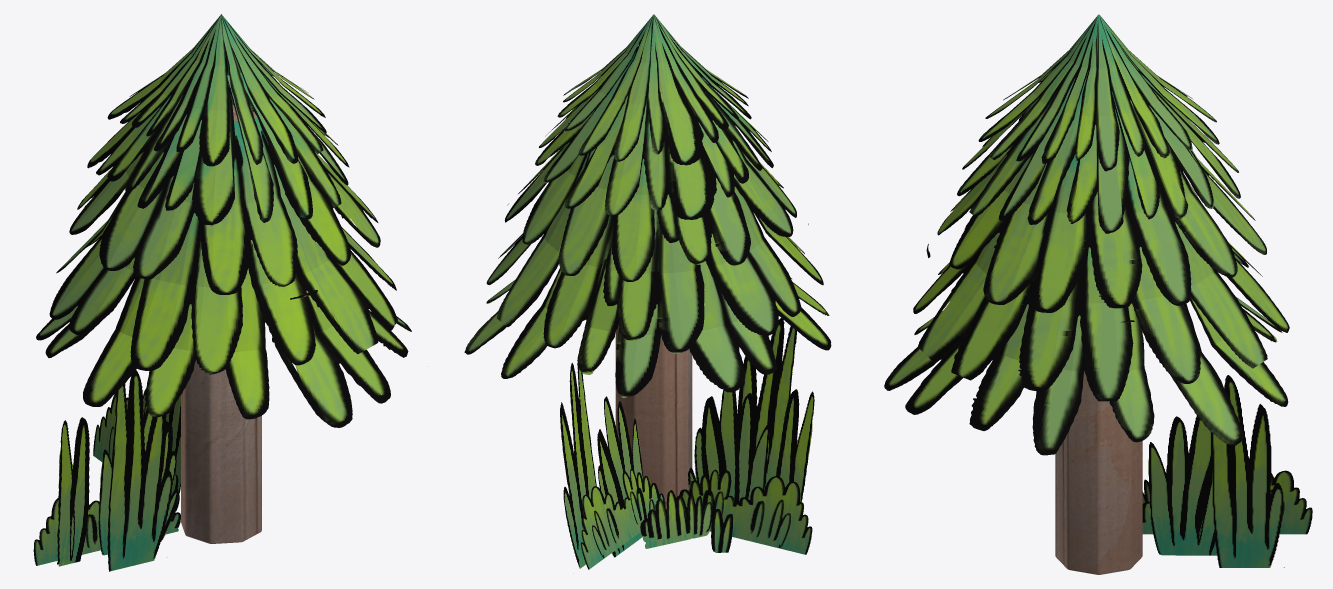
Rendered from FOREST_CORNER.obj.
3 views of the same model, side by side, from view 1: azimuth 30°, elevation 25°; view 2: azimuth 150°, elevation 25°; view 3: azimuth 270°, elevation 25° (orthographic). The views are drawn at different scales.
Parts seen in each view (by area): view 1: FOREST_CORNER.001; view 2: FOREST_CORNER.001; view 3: FOREST_CORNER.001.
Part boxes in pixels (box(x1,y1,x2,y2)): FOREST_CORNER.001: box(33, 14, 411, 571); FOREST_CORNER.001: box(464, 14, 831, 569); FOREST_CORNER.001: box(884, 14, 1312, 574).
Size of the model in its own units: 2.78 by 3.87 by 2.78.
